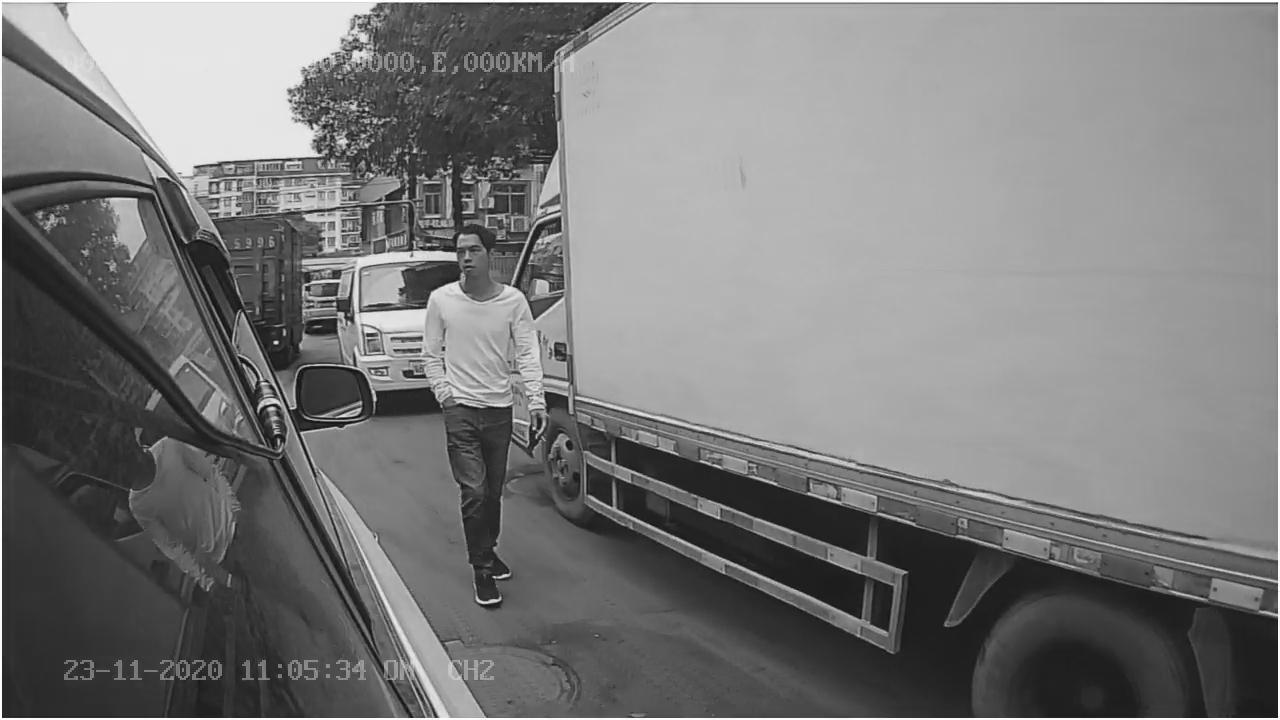person: (418, 219, 546, 616)
